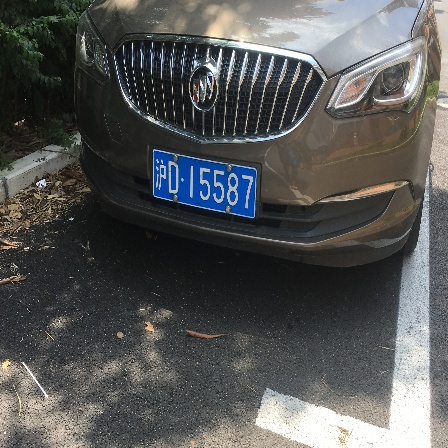plate: (150, 145, 261, 225)
